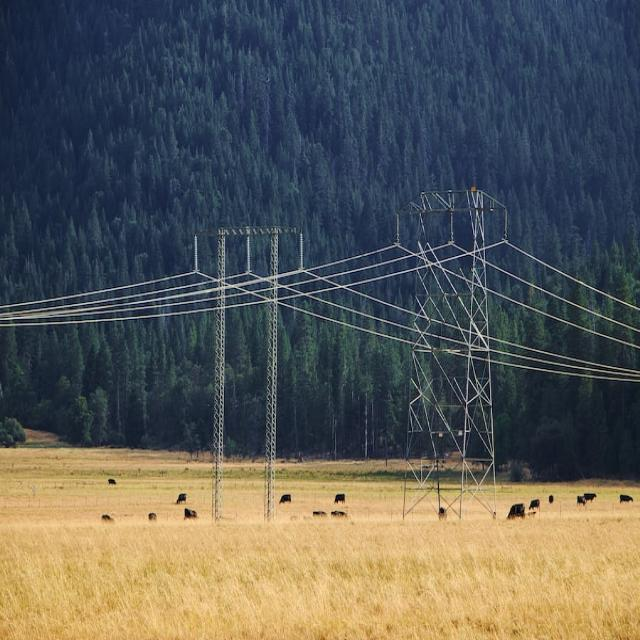transmission tower: (376, 172, 535, 497), (177, 202, 326, 500)
